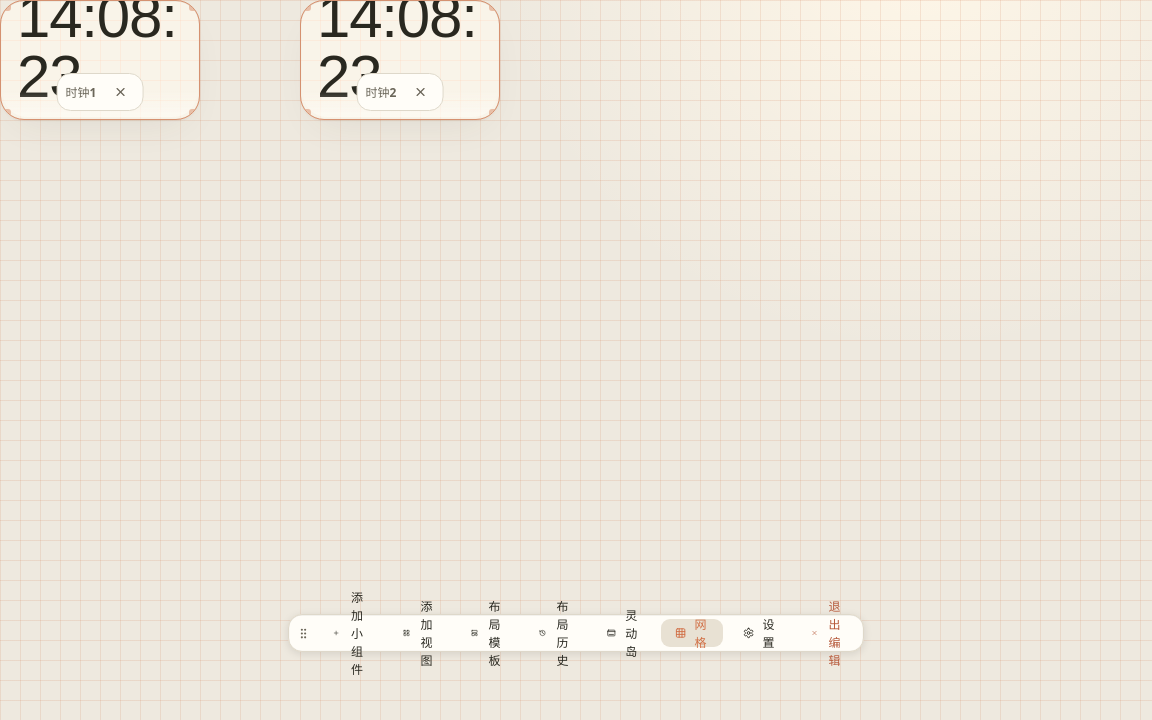
Test: 编辑工具栏弹层治理 › 外点关闭：画布空白处按下即收起弹层（编辑模式保持）
Click the button "布局模板".
click(488, 633)  # box [457,619,519,647]
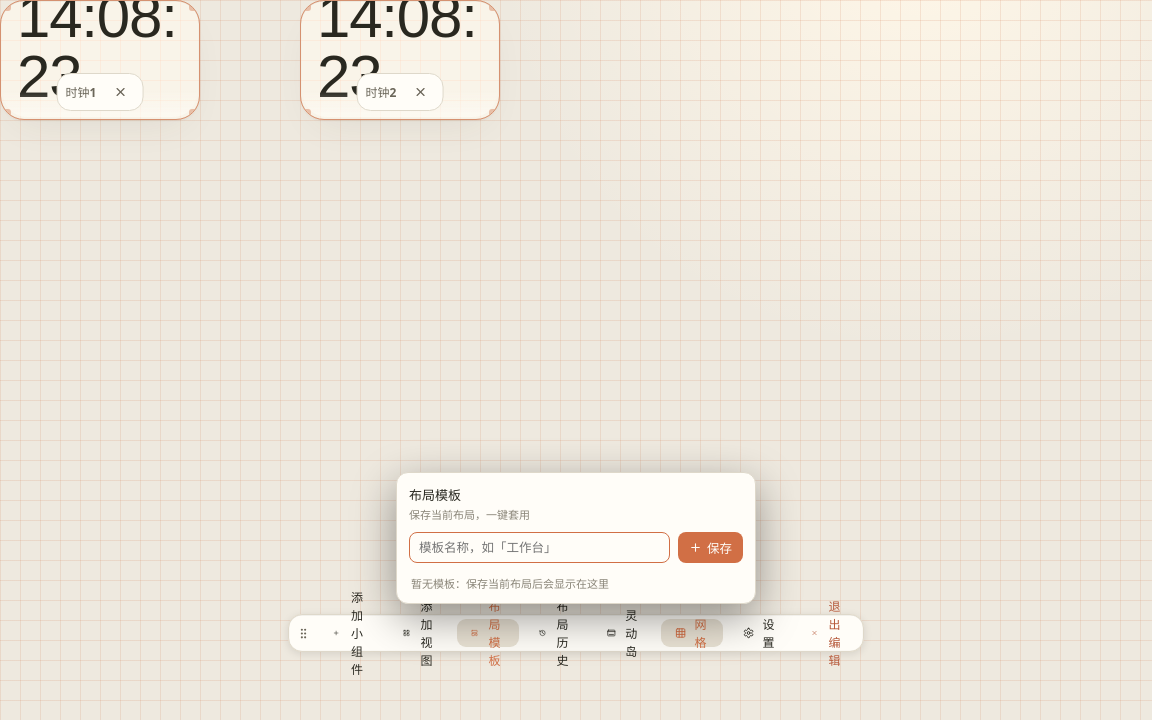
Expected: the dialog "布局模板" is shown, [396,472,756,604]
Press the mouse on the element with class "widget-canvas" at (432, 326), box [0,0,864,652]
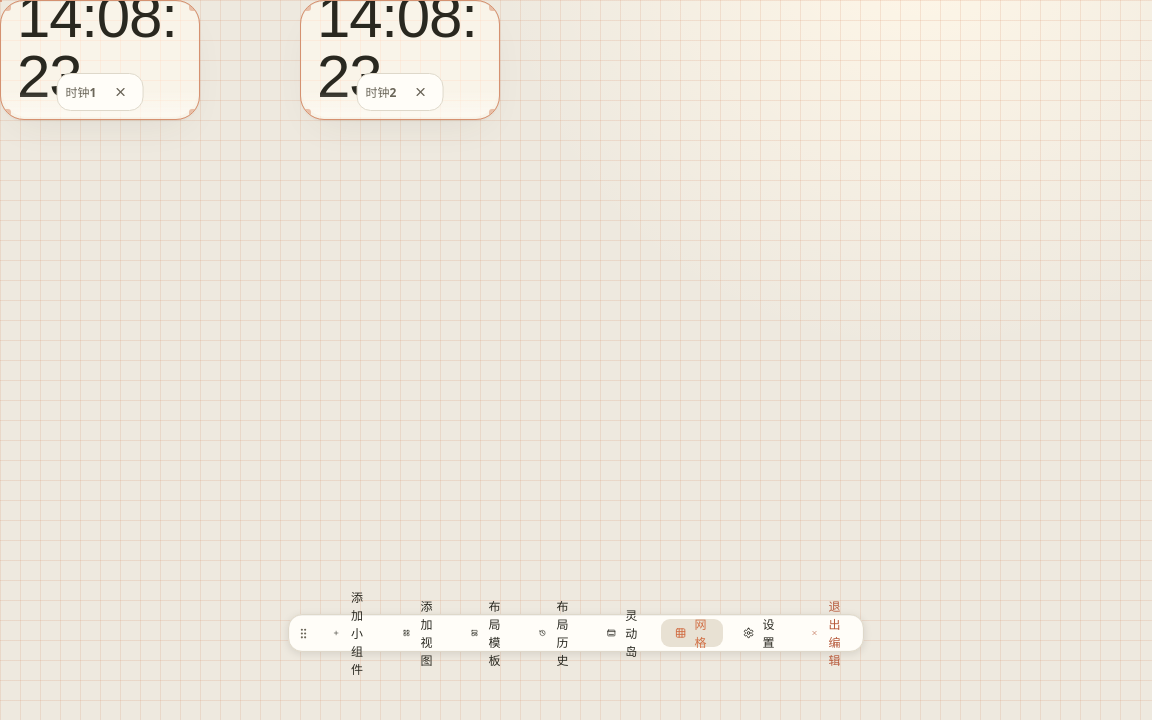
Expected: the dialog "布局模板 保存当前布局，一键套用 保存 暂无模板：保存当前布局后会显示在这里" is gone
